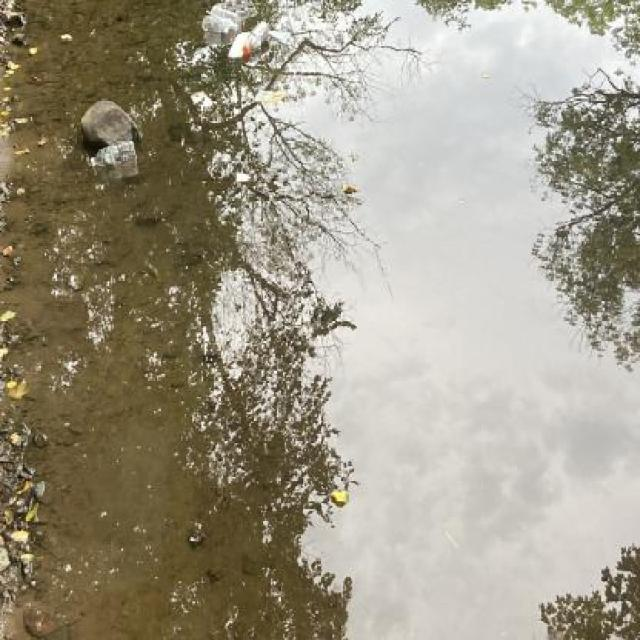Cardboard: (252, 85, 288, 106)
Plastic: (228, 13, 271, 62), (89, 137, 140, 174), (206, 0, 256, 31)
